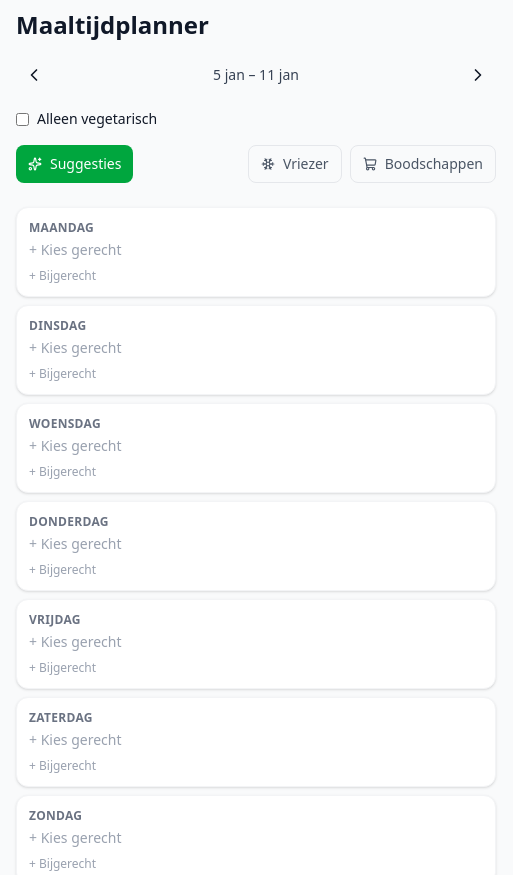
Test case: Planner suggestion re-roll › per-day 🔄 swaps a single day via suggestDay
Expected: the text "Maandag" is shown, [29, 220, 94, 236]
Step 1. Click the button "Suggesties" → point(75, 164), box [16, 145, 133, 183]
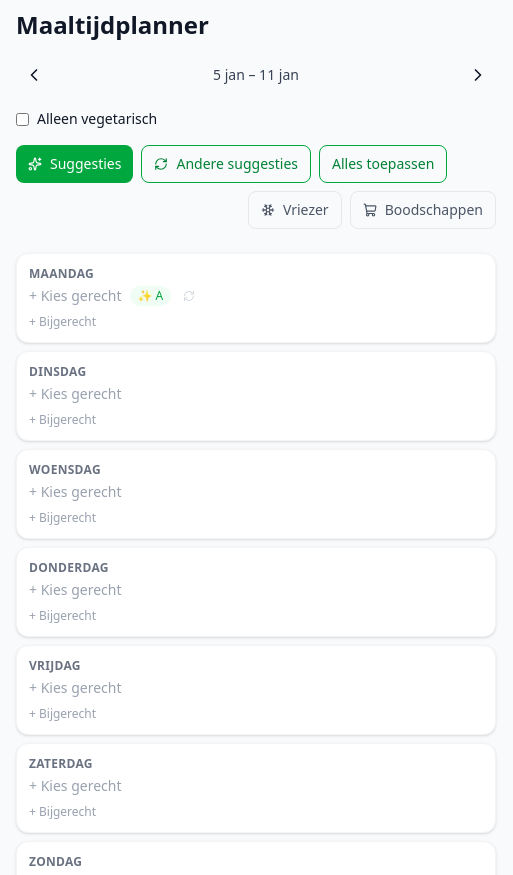
Step 2. Click the button titled "Andere suggestie voor deze dag" → point(189, 296), box [179, 286, 199, 306]
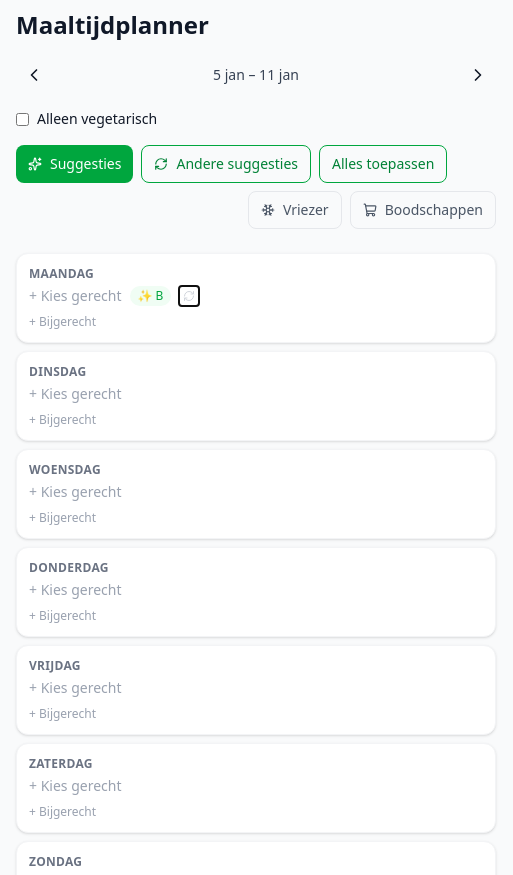
Now the button "✨ B" is shown, box [130, 286, 171, 306]
